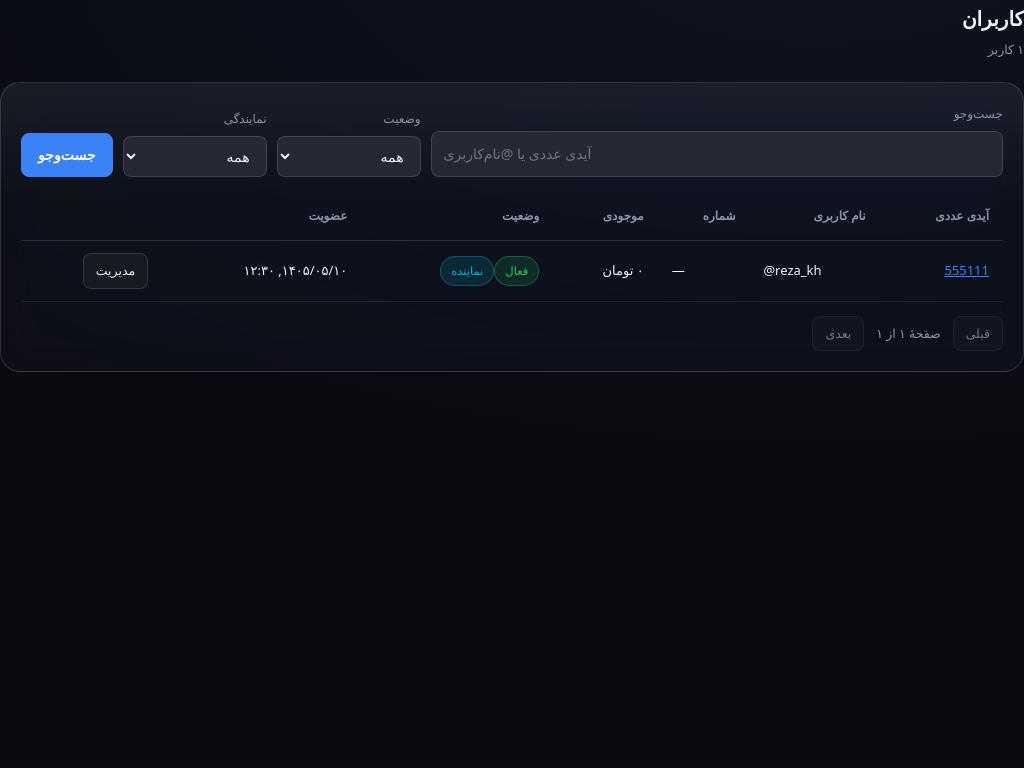
it: saving › shows what this customer paid, by card
The width and height of the screenshot is (1024, 768).
Step 1. Click the button "مدیریت" → (116, 271), box left=83, top=253, right=148, bottom=289
(page scrolled)
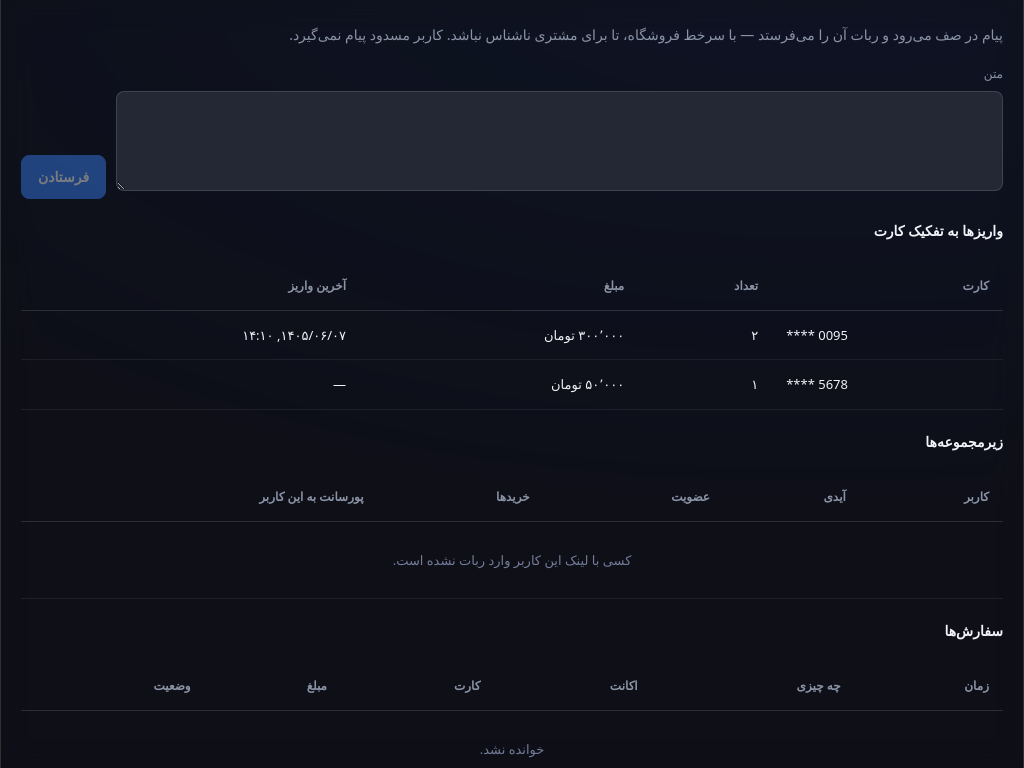
Result: the text "**** 0095" is shown at left=772, top=310, right=1003, bottom=360
Result: the text "**** 5678" is shown at left=772, top=360, right=1003, bottom=410
